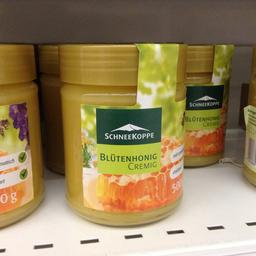honey: (58, 39, 188, 226)
